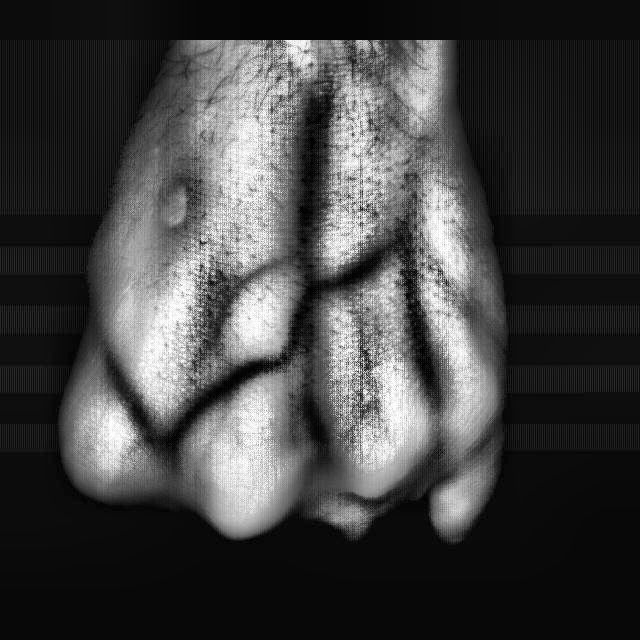Vein: (294, 87, 331, 270)
